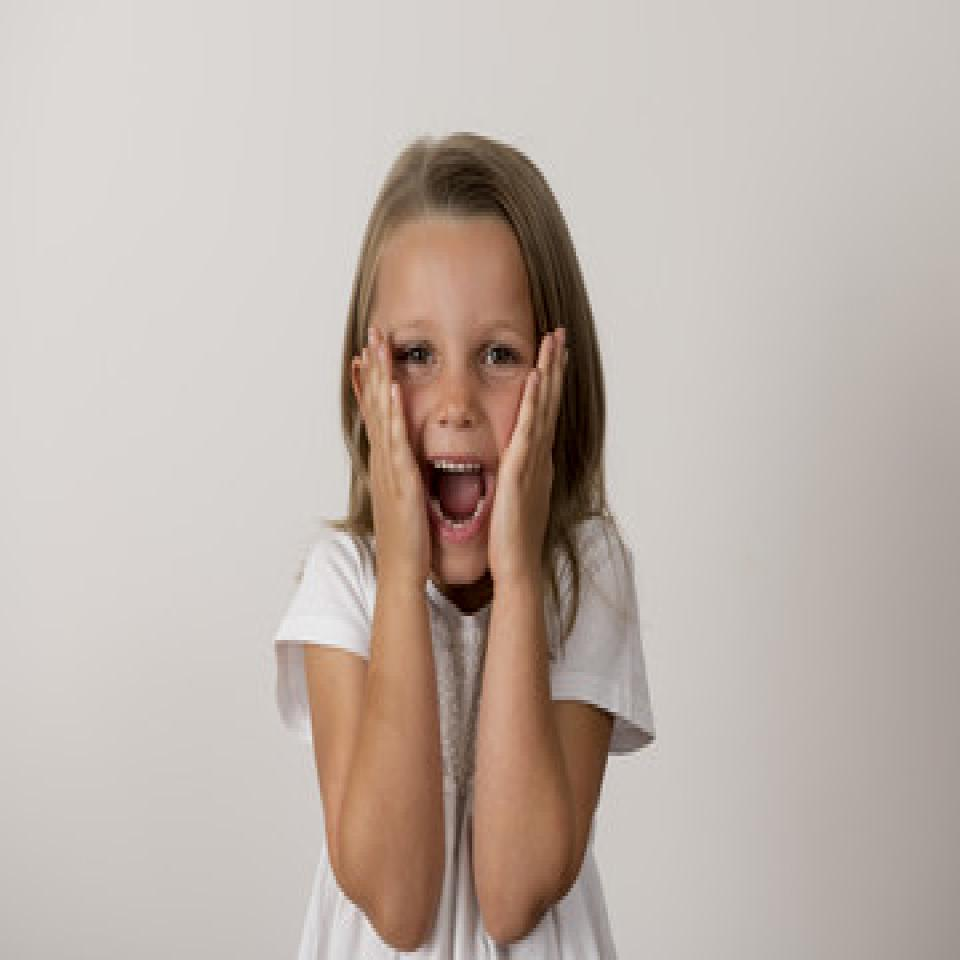Scared: (360, 231, 556, 587)
